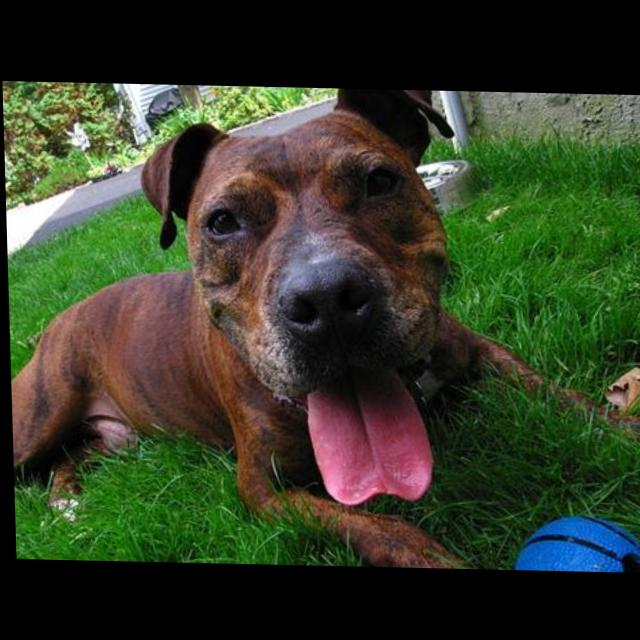amstaff: (3, 82, 640, 571)
